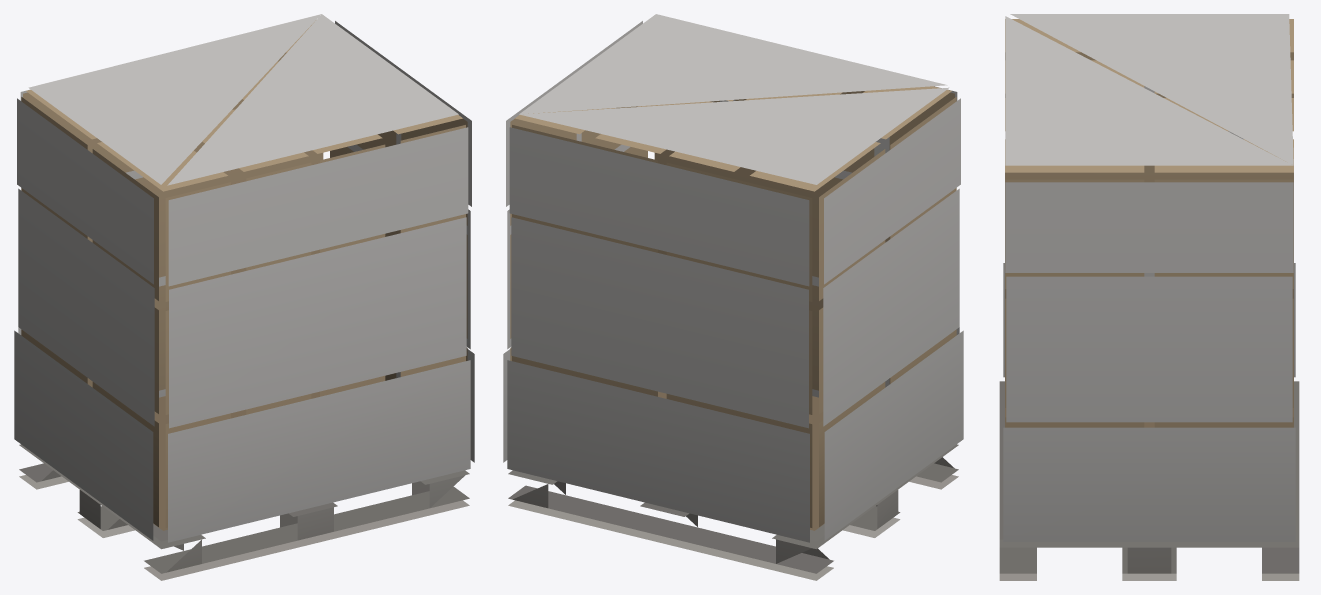
The model's file is wrapped.lod.glb.
The picture shows the model from 3 angles, left to right: view 1: azimuth 30°, elevation 25°; view 2: azimuth 150°, elevation 25°; view 3: azimuth 270°, elevation 25°; orthographic projection. The views are drawn at different scales.
Visible parts, largest first — view 1: wrapped; view 2: wrapped; view 3: wrapped.
Part boxes in pixels (x1=…): wrapped: x1=14, y1=14, x2=474, y2=580; wrapped: x1=503, y1=14, x2=963, y2=580; wrapped: x1=999, y1=14, x2=1299, y2=580.
Bounding box in the file's own units: 1.04 × 1.21 × 0.84.
